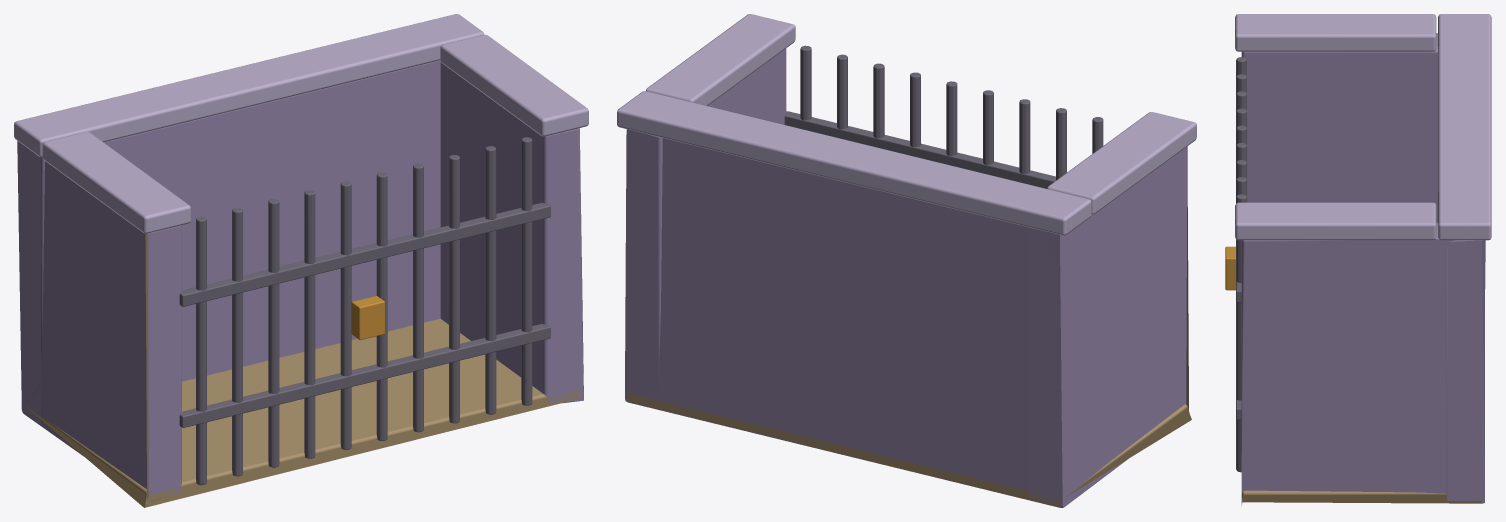
Rendered from cela.glb.
3 renders of one model, left to right at view 1: azimuth 30°, elevation 25°; view 2: azimuth 150°, elevation 25°; view 3: azimuth 270°, elevation 25°, orthographic. The views are drawn at different scales.
Parts seen in each view (by area): view 1: Estrutura, Grade; view 2: Estrutura, Grade; view 3: Estrutura, Grade.
Boxes of the visible parts, <box> form: Estrutura: <box>14,14,588,507</box>; Grade: <box>179,137,550,485</box>; Estrutura: <box>617,14,1196,507</box>; Grade: <box>784,45,1103,188</box>; Estrutura: <box>1235,14,1491,506</box>; Grade: <box>1225,57,1247,472</box>.
Size of the model in its own units: 3.08 by 1.94 by 1.64.
